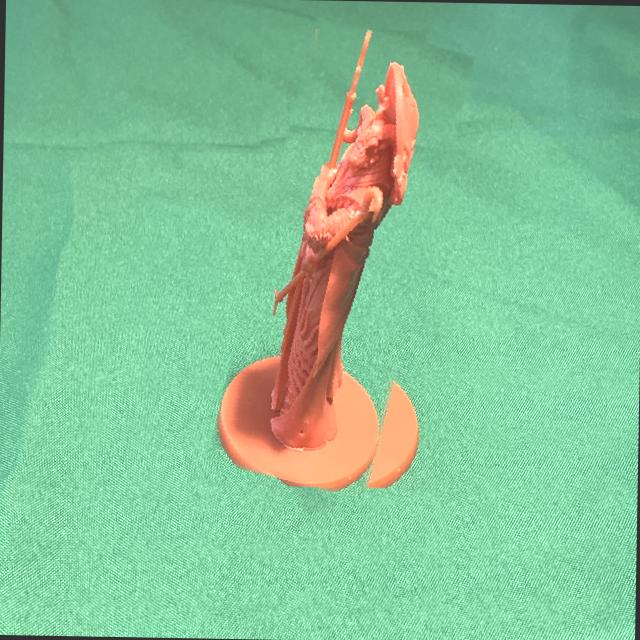amon: (230, 22, 450, 494)
